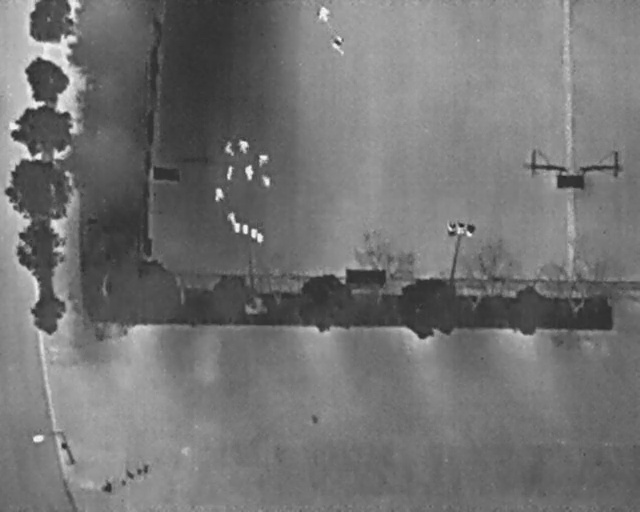Person: (332, 35, 345, 54), (318, 6, 330, 22), (258, 153, 270, 167), (238, 139, 249, 154), (224, 141, 234, 156), (215, 188, 225, 202), (225, 165, 234, 180), (244, 165, 253, 180), (227, 211, 236, 225), (262, 175, 271, 188)
